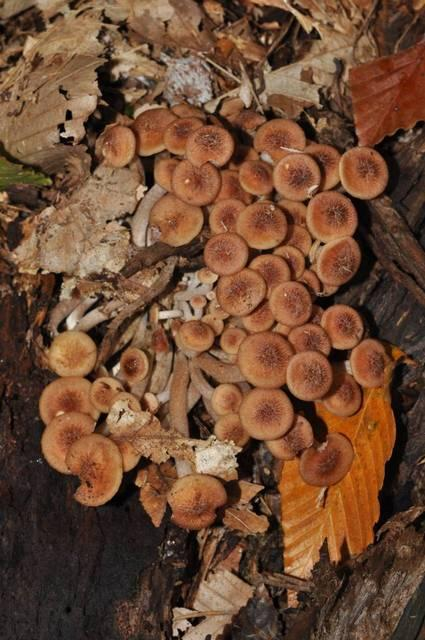edible_mushroom: (37, 95, 409, 532)
